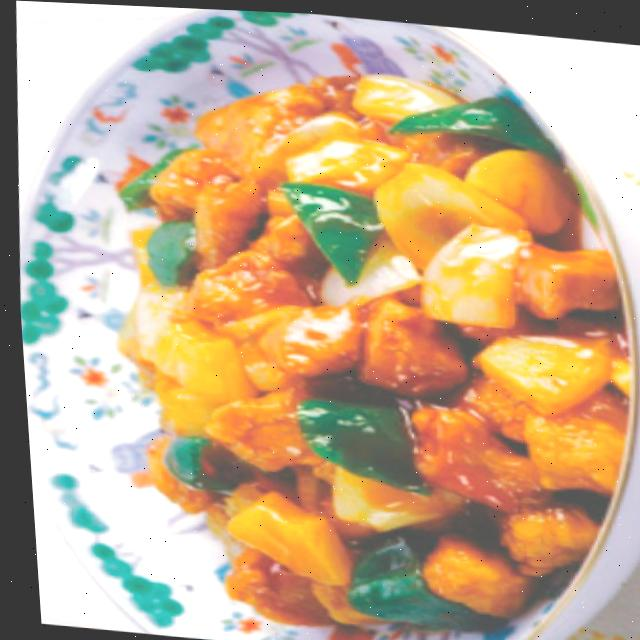猪肉菜式: (84, 42, 640, 640)
